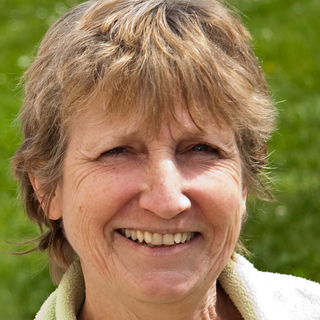eye: (93, 140, 143, 164), (178, 138, 225, 163)
